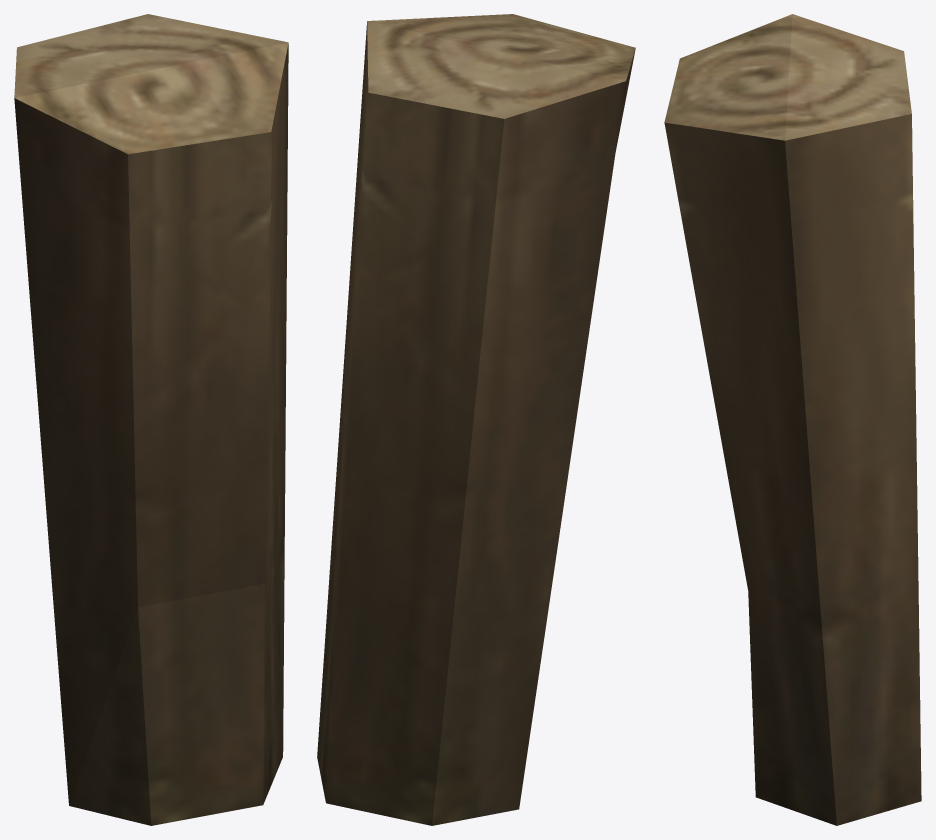
The model's file is muzhu_01.FBX.
3 views of the same model, side by side, from view 1: azimuth 30°, elevation 25°; view 2: azimuth 150°, elevation 25°; view 3: azimuth 270°, elevation 25° (orthographic). The views are drawn at different scales.
Parts seen in each view (by area): view 1: Object004; view 2: Object004; view 3: Object004.
Boxes of the visible parts, x1,y1,x2,y2 form: Object004: (14, 14, 288, 825); Object004: (317, 14, 635, 825); Object004: (664, 14, 921, 825).
Size of the model in its own units: 77.58 by 189 by 64.7.
